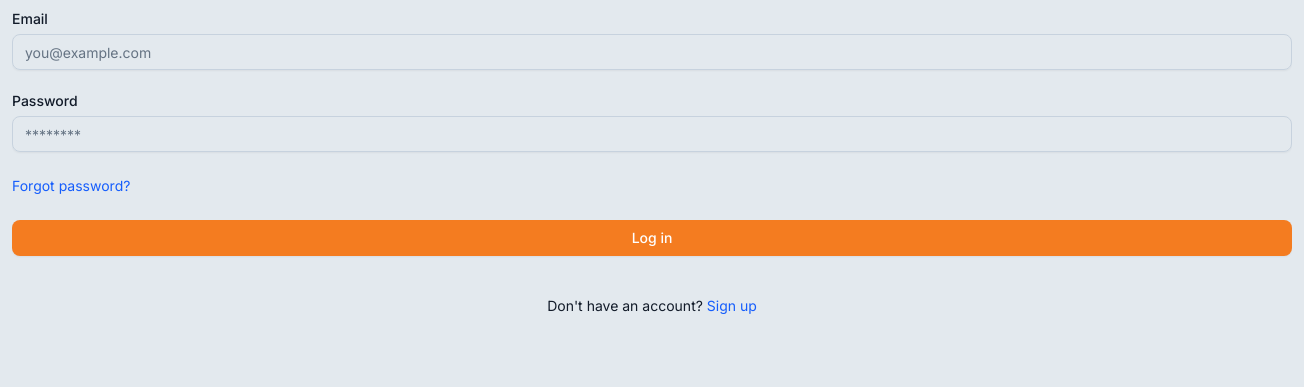
Test: LoginForm › validates form inputs
# Submit the form without filling in any fields
Click the button "Log in" at [652, 238], box [12, 220, 1292, 256]
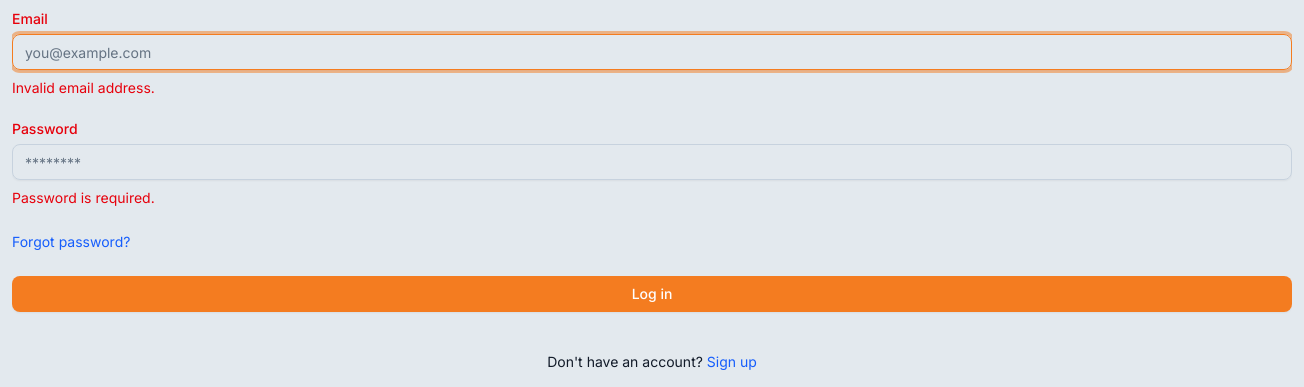
Check: the text "Invalid email address." is shown, box [12, 79, 155, 96]
Check: the text "Password is required." is shown, box [12, 189, 155, 206]
